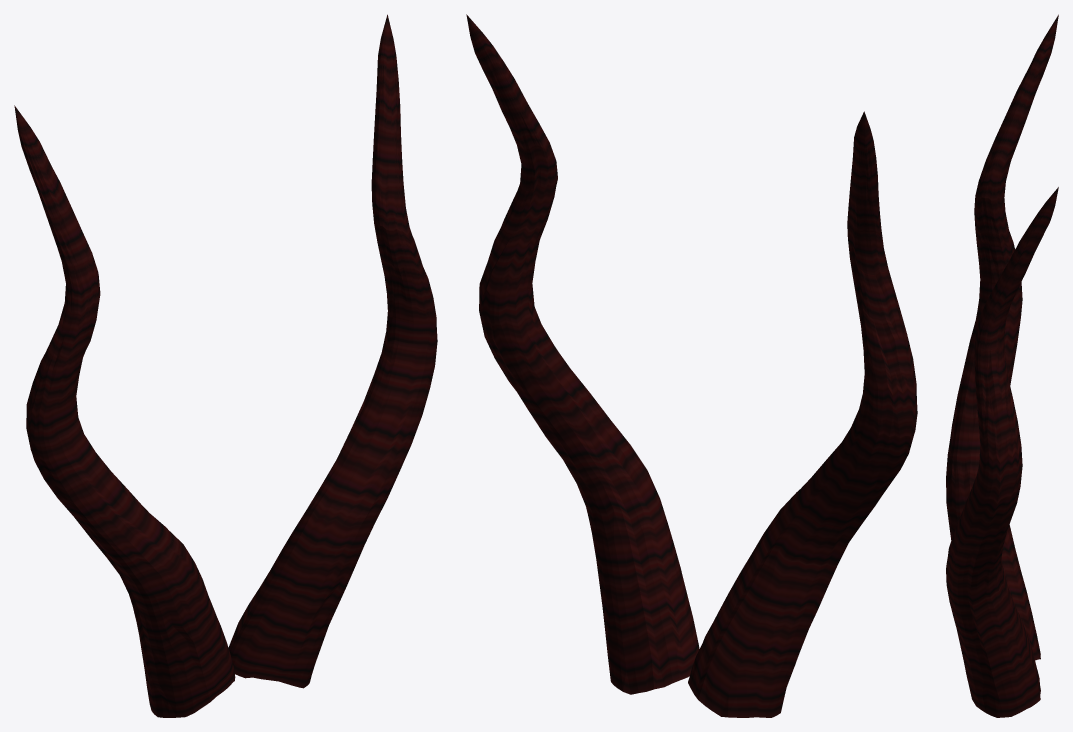
The model's file is mhw_elvs_gazelle_horns_1.glb.
3 views of the same model, side by side, from view 1: azimuth 30°, elevation 25°; view 2: azimuth 150°, elevation 25°; view 3: azimuth 270°, elevation 25° (orthographic). The views are drawn at different scales.
Visible parts, largest first — view 1: mhw_elvs_gazelle_horns_1; view 2: mhw_elvs_gazelle_horns_1; view 3: mhw_elvs_gazelle_horns_1.
Part boxes in pixels (bbox=[...]): mhw_elvs_gazelle_horns_1: bbox=[14, 14, 437, 717]; mhw_elvs_gazelle_horns_1: bbox=[466, 14, 917, 717]; mhw_elvs_gazelle_horns_1: bbox=[946, 14, 1058, 717].
Size of the model in its own units: 0.2513 by 0.3636 by 0.0638.
1 material, 1 textured.
